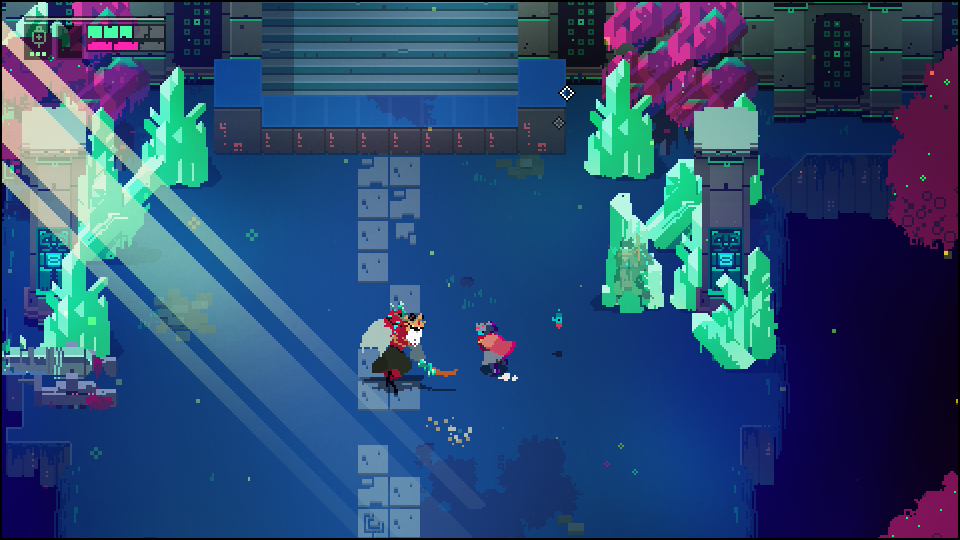hanged_man: (357, 301, 460, 391)
player: (474, 320, 515, 374)
